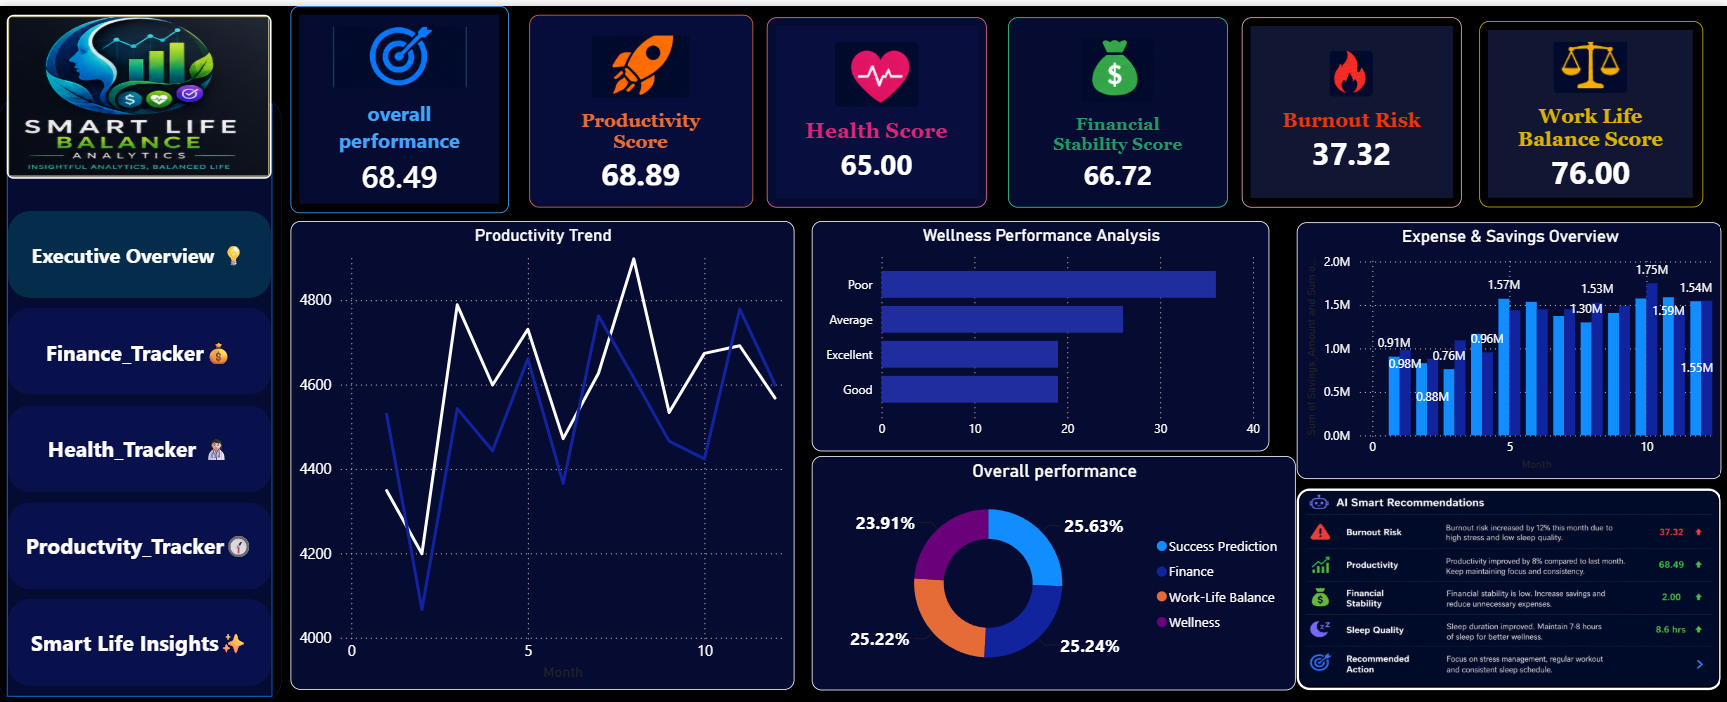

Layout of this report page (visuals, bound fields, positions):
{"tool":"powerbi","page":{"name":"Executive Overview 💡","canvas":[1730,700],"ordinal":0},"visuals":[{"type":"shape","box":[0,88.8,283.8,611.2],"z":0},{"type":"pageNavigator","box":[10,205,263.8,478.8],"z":1000},{"type":"image","box":[8.8,8.8,265,163.8],"z":2000},{"type":"cardVisual","fields":{"Data":["measures table.overall Wellness_Index"]},"box":[768.8,11.2,220,190],"z":3000},{"type":"cardVisual","fields":{"Data":["measures table.Productivity_Efficiency"]},"box":[531.2,8.8,223.8,192.5],"z":4000},{"type":"cardVisual","fields":{"Data":["measures table.Burnout_Risk_Score"]},"box":[1243.8,11.2,220,190],"z":5000},{"type":"cardVisual","fields":{"Data":["measures table.Financial_Stability_Score"]},"box":[1010,11.2,220,190],"z":6000},{"type":"cardVisual","fields":{"Data":["measures table.Work_Life_Balance"]},"box":[1481.2,15,223.8,186.2],"z":8000},{"type":"donutChart","title":"🎯Overall performance","fields":{"Y":["Sum(master_tracker_table.Work_Life_Balance_Score)"],"Category":["master_tracker_table.task category"]},"box":[813.8,458.8,457.5,225],"z":9000},{"type":"lineChart","title":"📈Productivity Trend","fields":{"Y":["Sum(master_tracker.Productivity_Score)","Sum(master_tracker.Stress_Level)"],"Category":["Calendar.Month"]},"box":[292.5,215,503.8,468.8],"z":10000},{"type":"barChart","title":"📈Wellness Performance Analysis","fields":{"Y":["Avg(master_tracker_table.Productivity_Score)"],"Category":["master_tracker.Wellness Category"]},"box":[813.8,215,457.5,230],"z":11000},{"type":"clusteredColumnChart","title":"Expense & Savings Overview ⭐","fields":{"Category":["Calendar.Month"],"Y":["Sum(finance_tracker.Savings_Amount)","Sum(finance_tracker.Daily_Expense)"]},"box":[1298.8,201.2,425,271.2],"z":12000},{"type":"cardVisual","fields":{"Data":["measures table.overall performance"]},"box":[292.5,11.2,230,203.8],"z":13000},{"type":"image","box":[1298.8,482.5,425,201.2],"z":14000}]}

Visuals, with their boxes in screenshot pixels (x1, y1, x2, y2), scaled from the page's 1730x700 canvas onto the 1727x702 screenshot:
shape: l=0, t=89, r=283, b=701
pageNavigator: l=10, t=206, r=273, b=686
image: l=9, t=9, r=273, b=173
cardVisual - measures table.overall Wellness_Index: l=767, t=11, r=987, b=202
cardVisual - measures table.Productivity_Efficiency: l=530, t=9, r=754, b=202
cardVisual - measures table.Burnout_Risk_Score: l=1242, t=11, r=1461, b=202
cardVisual - measures table.Financial_Stability_Score: l=1008, t=11, r=1228, b=202
cardVisual - measures table.Work_Life_Balance: l=1479, t=15, r=1702, b=202
"🎯Overall performance" donutChart: l=812, t=460, r=1269, b=686
"📈Productivity Trend" lineChart: l=292, t=216, r=795, b=686
"📈Wellness Performance Analysis" barChart: l=812, t=216, r=1269, b=446
"Expense & Savings Overview ⭐" clusteredColumnChart: l=1297, t=202, r=1721, b=474
cardVisual - measures table.overall performance: l=292, t=11, r=522, b=216
image: l=1297, t=484, r=1721, b=686
